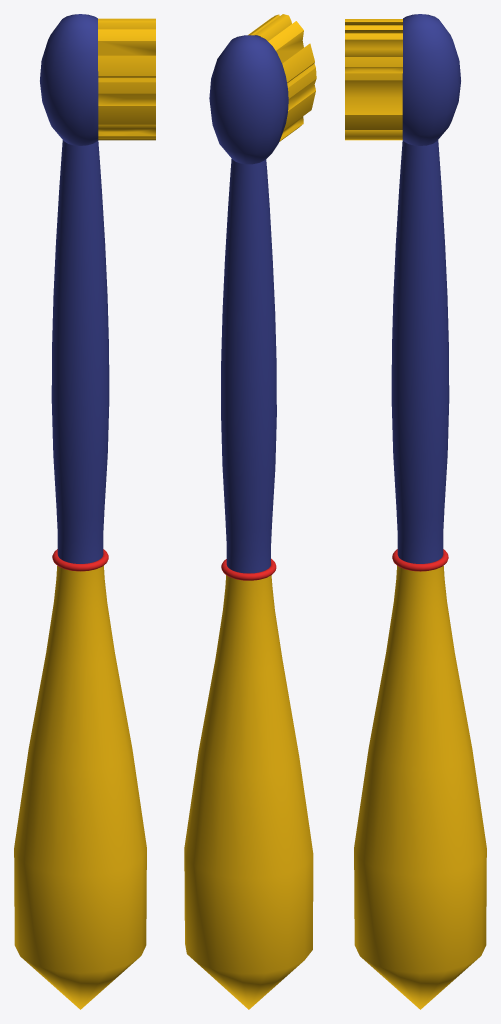
Rendered from spazzolino.fbx.
The picture shows the model from 3 angles, left to right: view 1: azimuth 90°, elevation 25°; view 2: azimuth 150°, elevation 25°; view 3: azimuth 270°, elevation 25°; orthographic projection. The views are drawn at different scales.
Visible parts, largest first — view 1: Oggetto_2, Oggetto_3, Oggetto_9, Oggetto_8, Oggetto_7, Oggetto_1; view 2: Oggetto_2, Oggetto_3, Oggetto_9, Oggetto_8, Oggetto_1, Oggetto_7; view 3: Oggetto_2, Oggetto_3, Oggetto_4, Oggetto_5, Oggetto_6, Oggetto_1, Oggetto_7.
Boxes of the visible parts, bbox=[...] form: Oggetto_2: bbox=[14, 565, 146, 1009]; Oggetto_3: bbox=[40, 14, 109, 563]; Oggetto_9: bbox=[98, 55, 155, 124]; Oggetto_8: bbox=[98, 29, 155, 139]; Oggetto_7: bbox=[98, 19, 155, 140]; Oggetto_1: bbox=[52, 549, 108, 571]; Oggetto_2: bbox=[184, 575, 313, 1009]; Oggetto_3: bbox=[209, 35, 288, 573]; Oggetto_9: bbox=[282, 43, 316, 129]; Oggetto_8: bbox=[268, 21, 303, 141]; Oggetto_1: bbox=[221, 558, 276, 580]; Oggetto_7: bbox=[255, 14, 291, 41]; Oggetto_2: bbox=[354, 565, 486, 1009]; Oggetto_3: bbox=[391, 14, 460, 563]; Oggetto_4: bbox=[345, 57, 402, 129]; Oggetto_5: bbox=[345, 33, 402, 139]; Oggetto_6: bbox=[345, 25, 402, 140]; Oggetto_1: bbox=[392, 549, 448, 571]; Oggetto_7: bbox=[345, 19, 402, 25].
Bounding box in the file's own units: 2.3 × 2.45 × 19.
